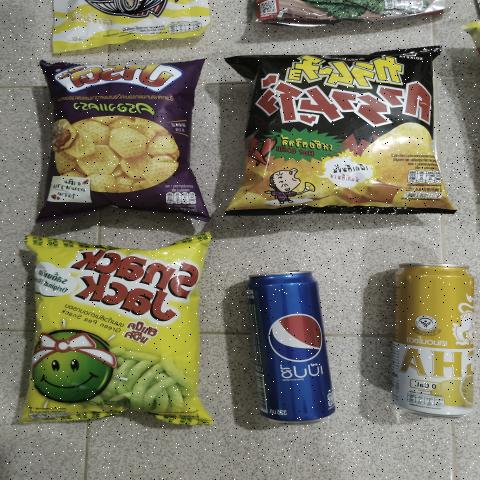karamujo: (236, 50, 441, 210)
party_purple: (48, 59, 191, 218)
pepsi_blue: (239, 259, 338, 426)
singha_yellow: (385, 249, 480, 430)
snack_jack: (26, 240, 201, 420)
